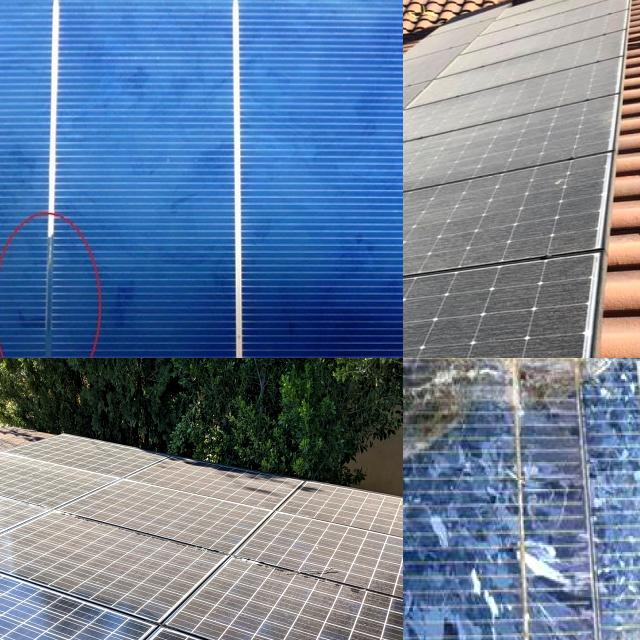dust: (445, 0, 619, 133), (403, 248, 603, 358), (27, 509, 202, 634), (472, 130, 608, 246), (218, 538, 337, 640), (403, 279, 522, 358), (403, 129, 473, 259), (29, 439, 174, 489), (344, 495, 403, 597), (194, 471, 301, 525), (0, 467, 59, 562), (403, 59, 437, 121)
shadow: (403, 358, 617, 480), (24, 232, 84, 358)
